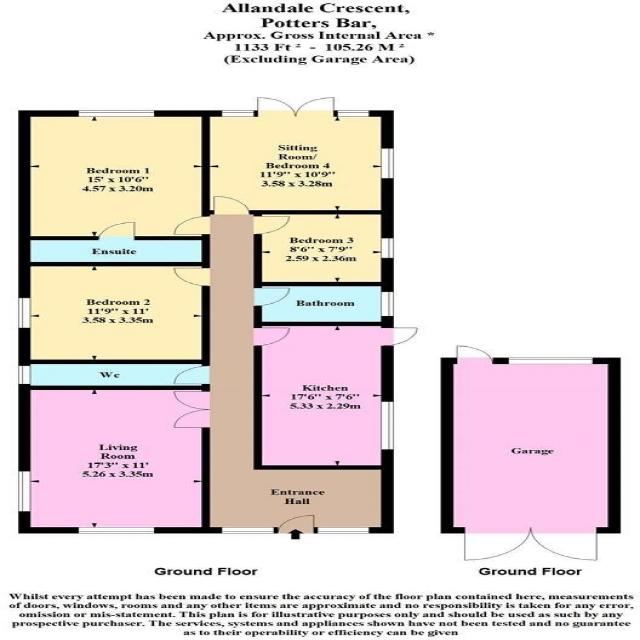DOOR: (96, 221, 137, 241), (212, 195, 251, 215), (172, 215, 211, 235), (172, 365, 210, 385), (253, 327, 291, 347), (253, 287, 291, 307), (253, 215, 291, 235), (172, 267, 210, 287), (380, 327, 419, 346), (277, 515, 316, 533)
DOUBLE DOOR: (256, 96, 336, 117), (171, 390, 211, 429)
ROOM: (18, 385, 211, 534), (17, 110, 212, 240), (252, 321, 419, 470), (201, 97, 394, 215), (18, 262, 211, 364), (253, 210, 394, 286)
WINDOW: (17, 470, 33, 513), (380, 401, 394, 450), (76, 526, 157, 534), (77, 110, 156, 117), (17, 297, 32, 329), (380, 148, 395, 179), (316, 526, 371, 534), (221, 526, 275, 534), (380, 291, 395, 317), (380, 238, 394, 259), (17, 365, 31, 385), (220, 110, 255, 117), (336, 110, 370, 117)
